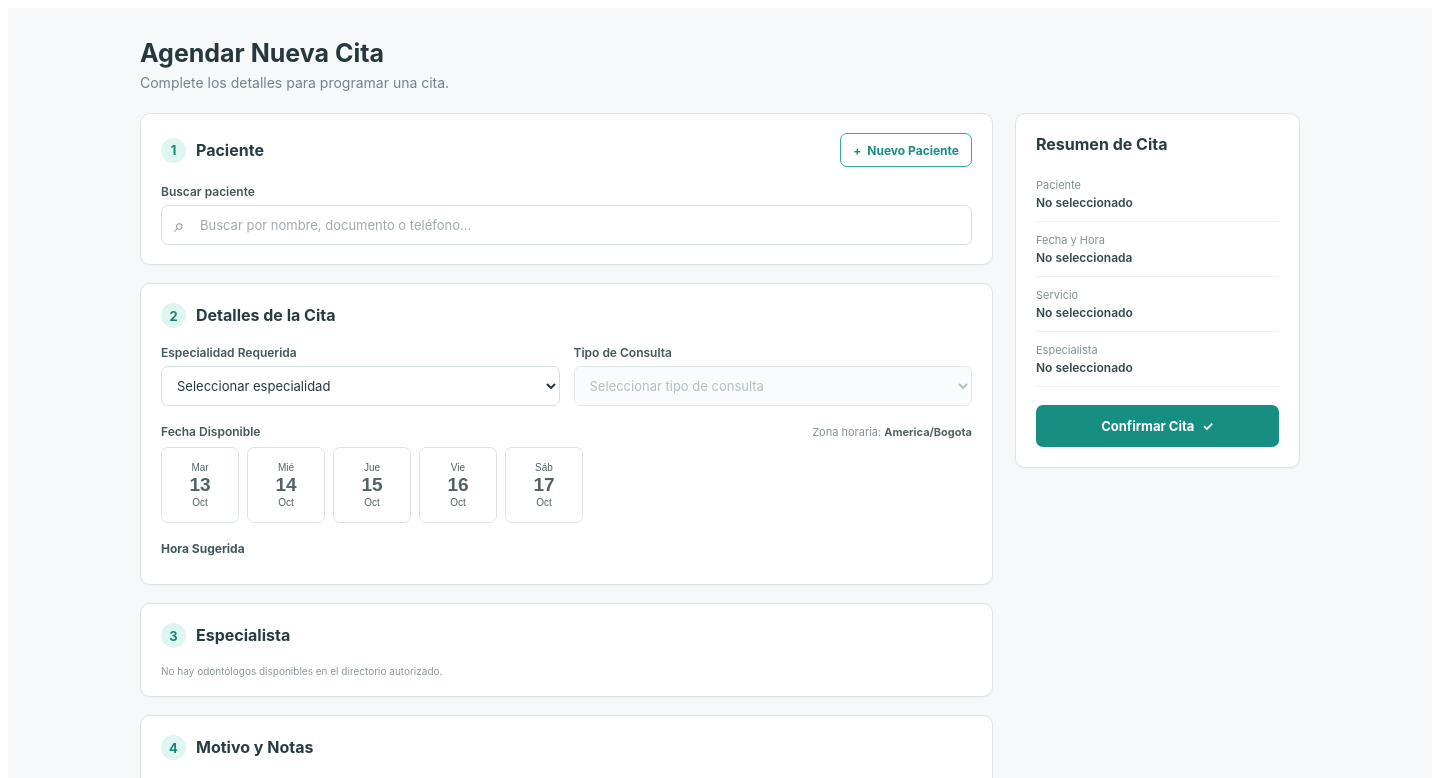
it: SchedulingPageComponent › updates the service summary from the selected demonstration catalog
This screenshot has width=1440, height=778.
Select "Odontología general" in the dropdown with id "specialty" at (360, 386), box [161,366,560,406]
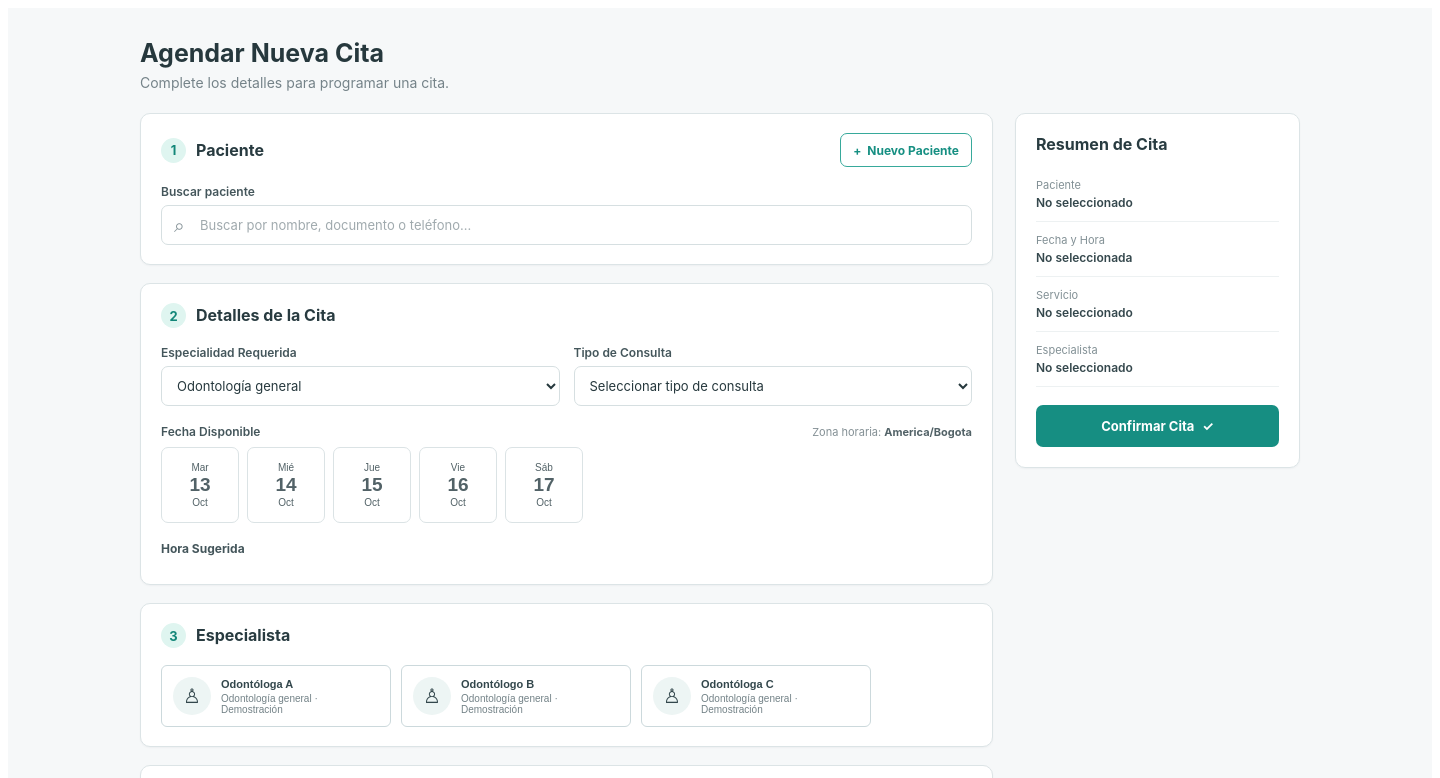
Select "Consulta de valoración" in the dropdown with id "consultation-type" at (773, 386), box [574,366,972,406]
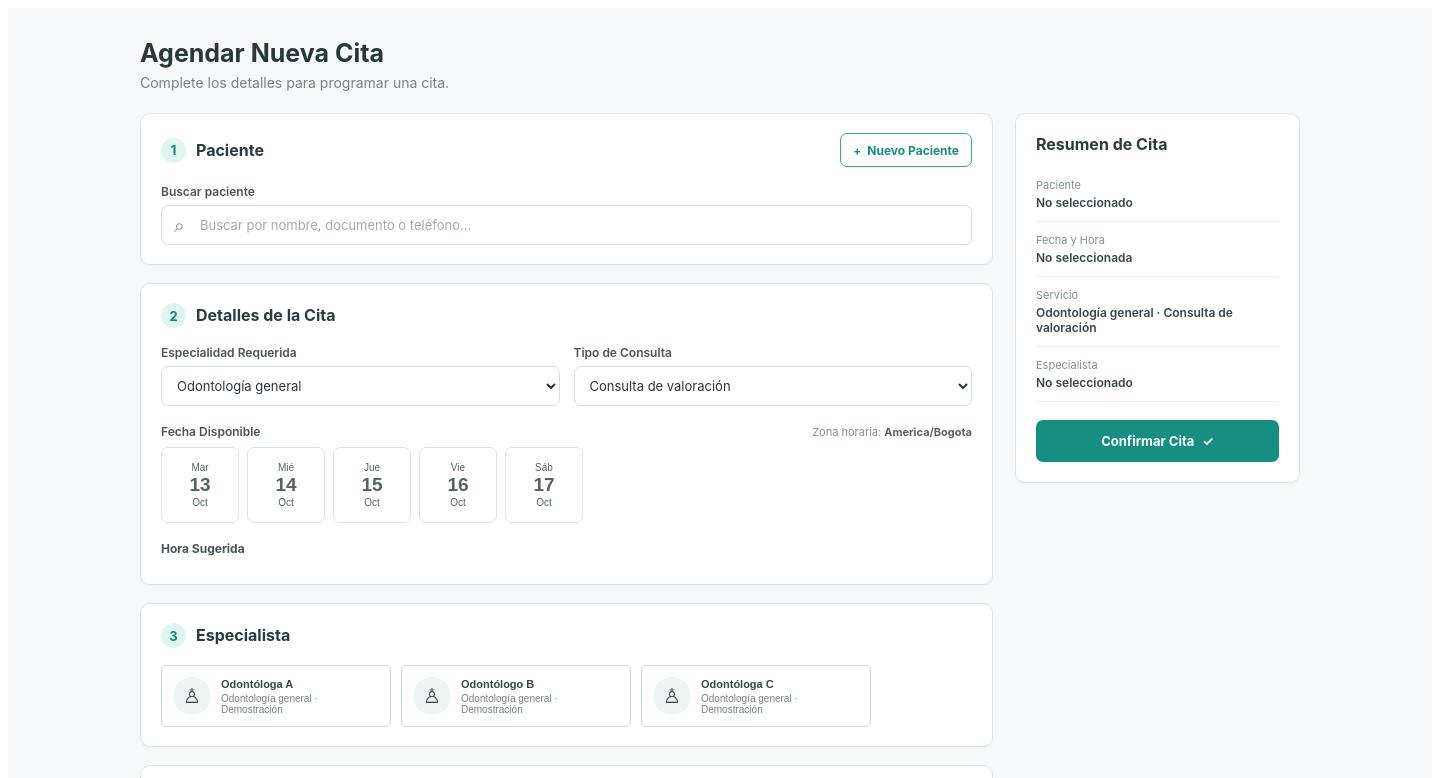
Check: the text "Odontología general · Consulta de valoración" is shown, box [1036,305,1233,335]
